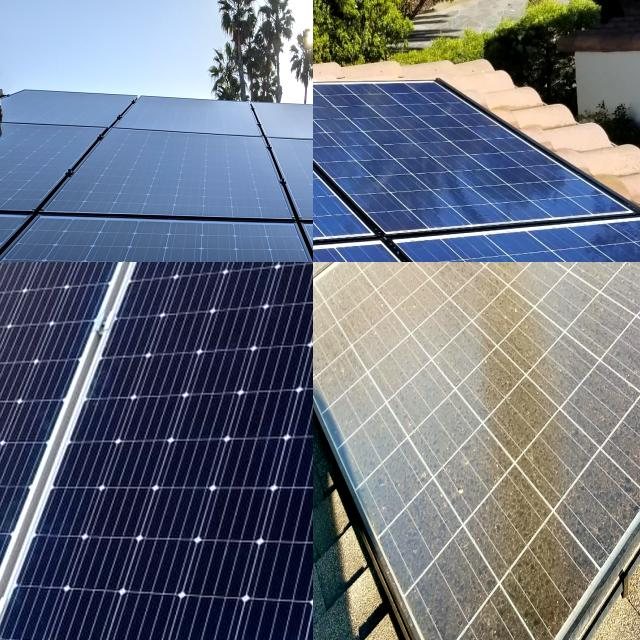crack: (0, 262, 313, 640), (0, 262, 199, 640), (37, 129, 313, 247), (265, 134, 313, 236)
dust: (343, 272, 640, 469), (336, 262, 496, 316)
